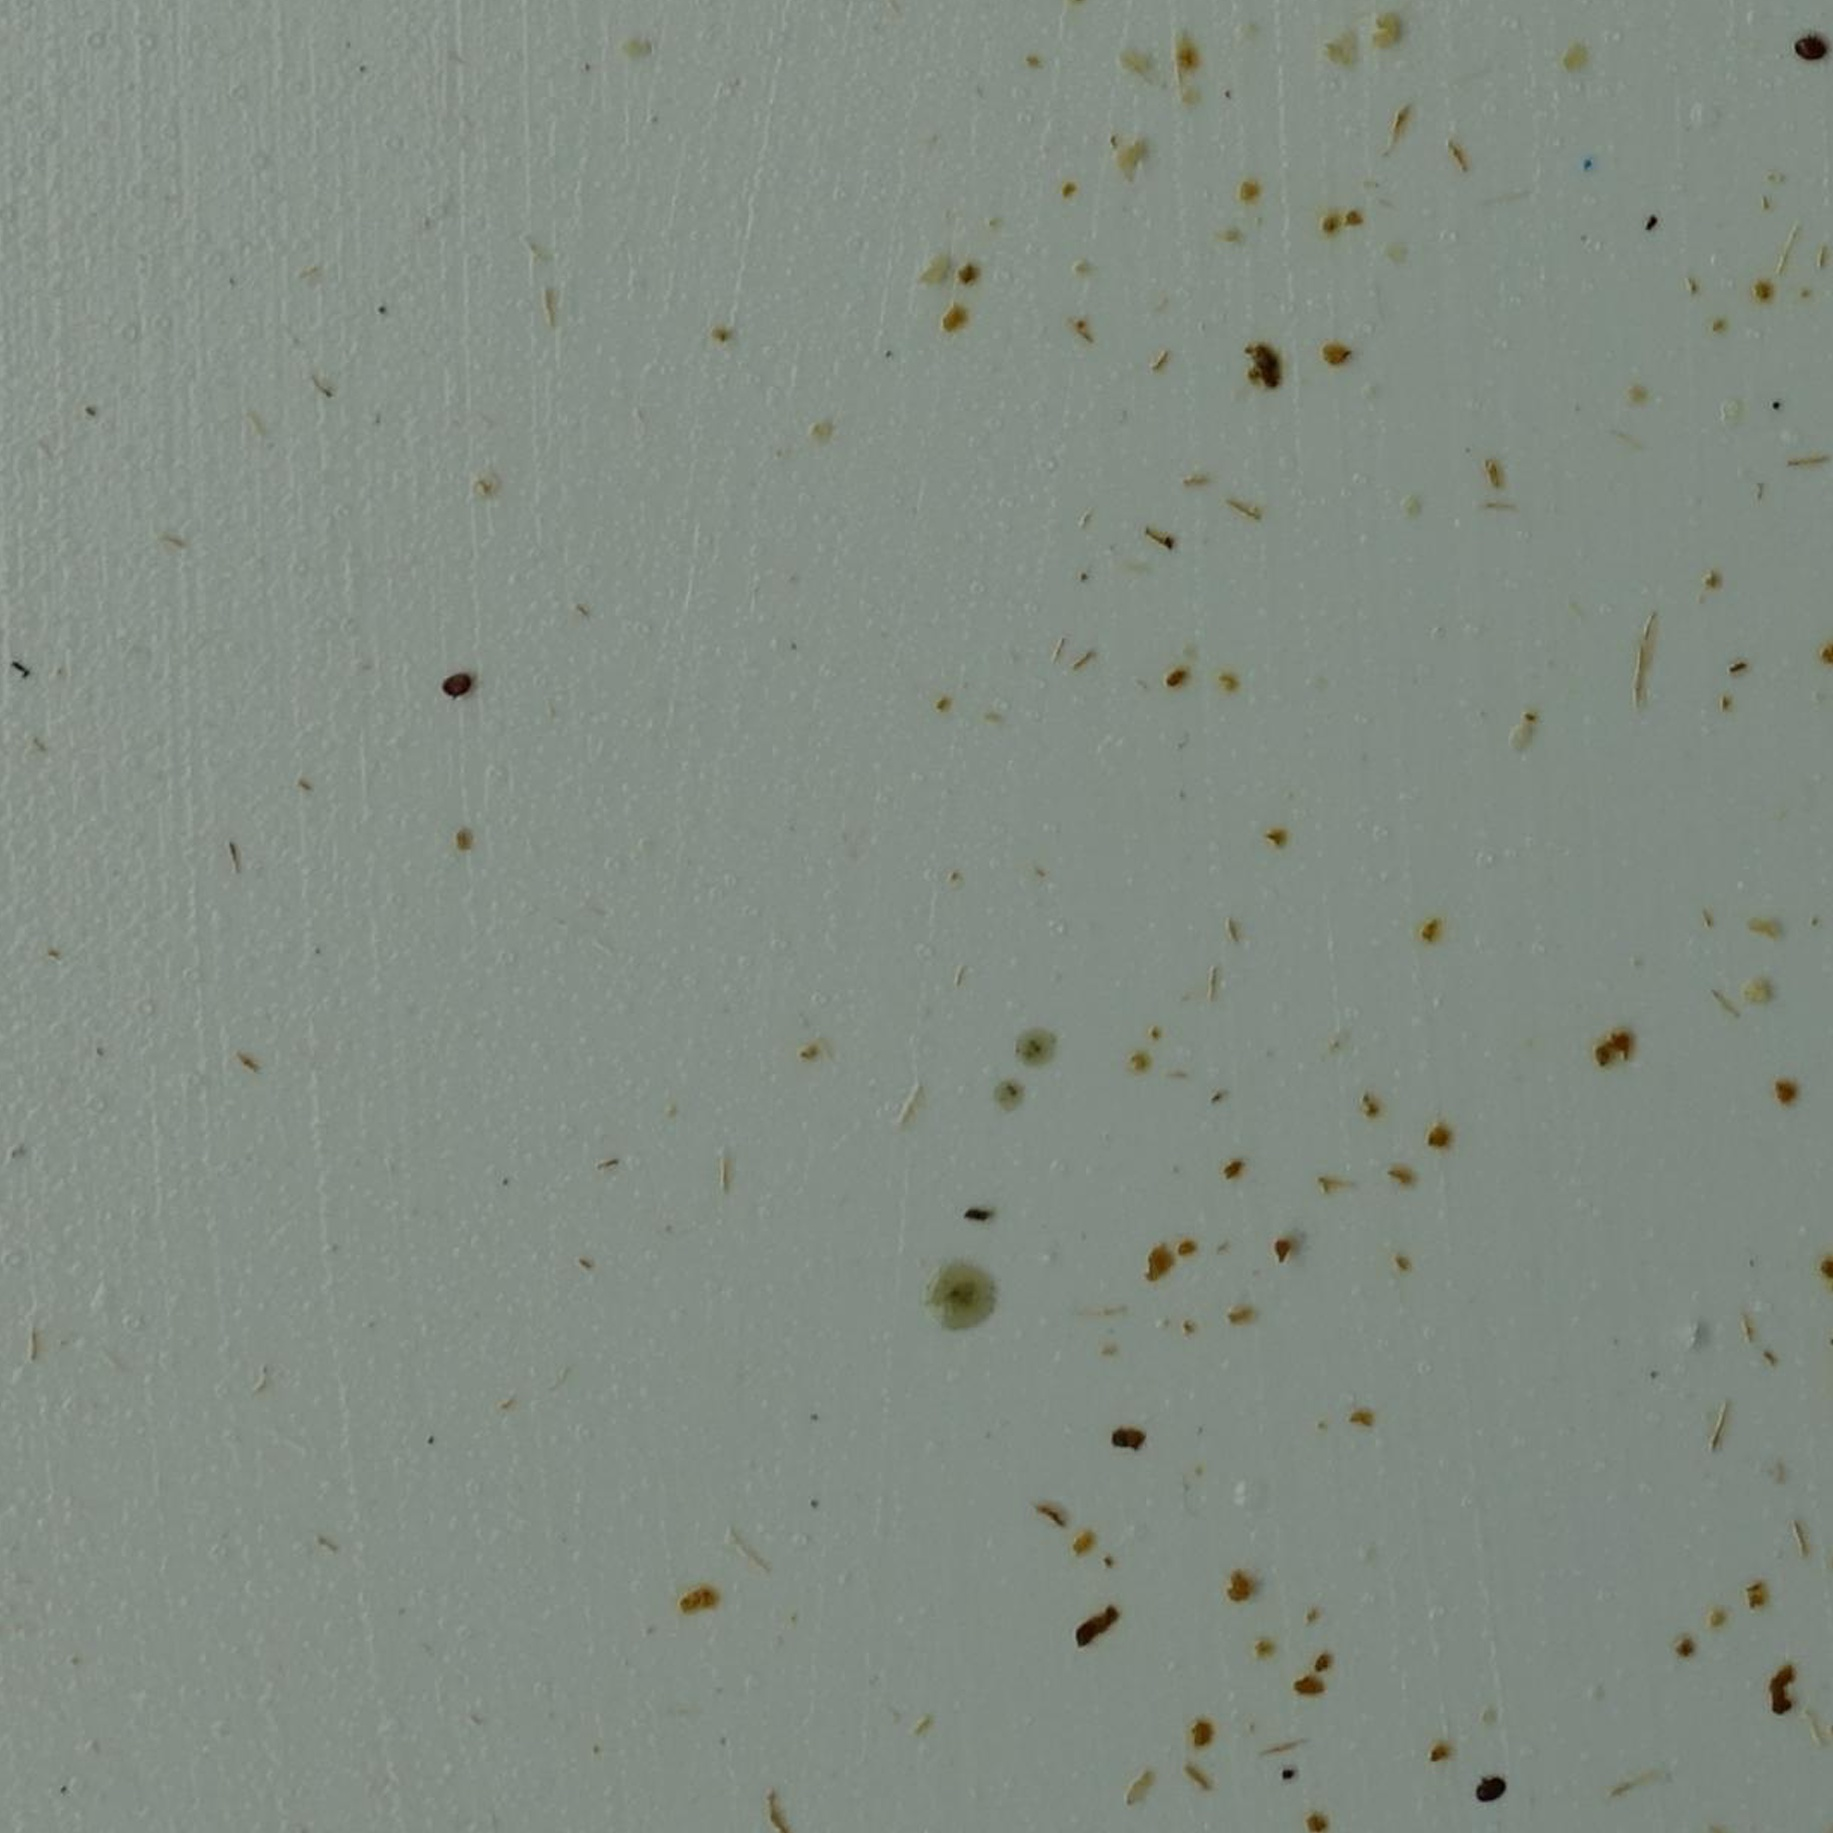Varroa: (1793, 34, 1823, 65), (1472, 1771, 1501, 1803), (445, 666, 472, 693)
